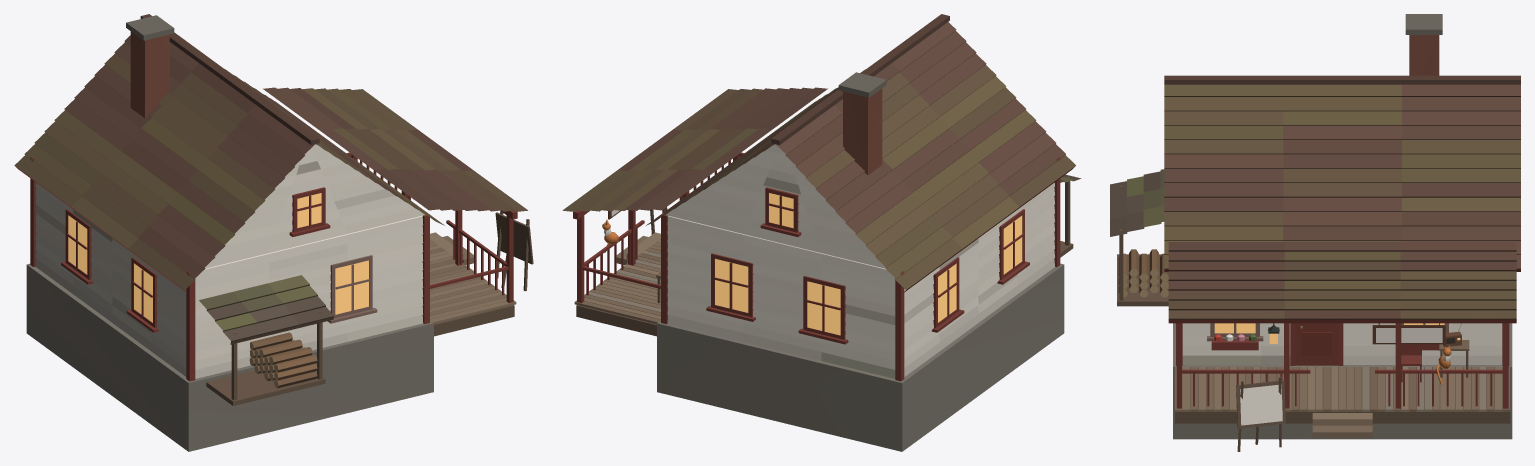
The picture shows the model from 3 angles, left to right: view 1: azimuth 30°, elevation 25°; view 2: azimuth 150°, elevation 25°; view 3: azimuth 270°, elevation 25°; orthographic projection. The views are drawn at different scales.
Parts seen in each view (by area): view 1: keeper_house; view 2: keeper_house; view 3: keeper_house, label_season_board, label_keeper_sign.
Boxes of the visible parts, left/top/right/bottom form: keeper_house: left=14, top=14, right=533, bottom=451; keeper_house: left=562, top=14, right=1081, bottom=451; keeper_house: left=1110, top=14, right=1520, bottom=451; label_season_board: left=1240, top=384, right=1282, bottom=425; label_keeper_sign: left=1376, top=328, right=1442, bottom=342.
Bounding box in the file's own units: 10.8 × 8.57 × 9.56.
